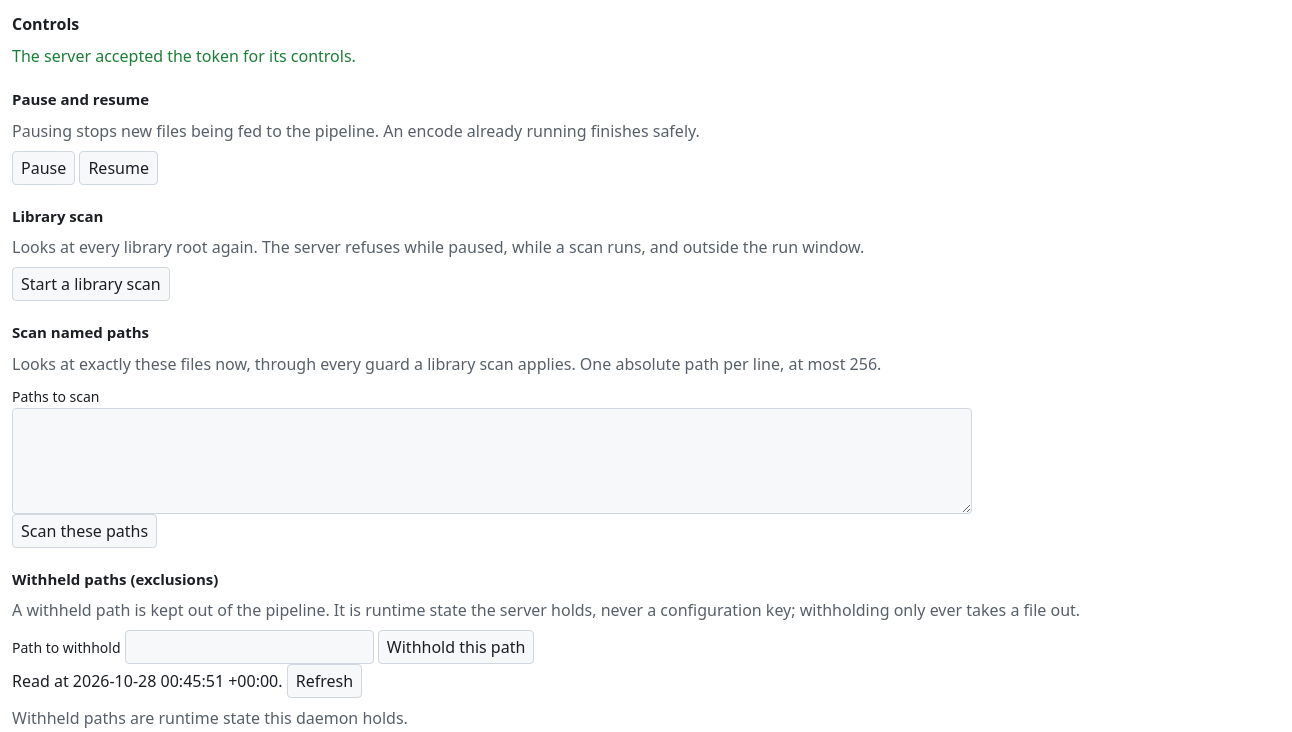
Test case: controls › controls: resume sends POST /api/resume and shows the server's answer
Expected: the text "The server accepted the token for its controls." is shown, [12, 45, 356, 67]
Step 1. Click the button "Resume" → (119, 168), box [79, 150, 158, 184]
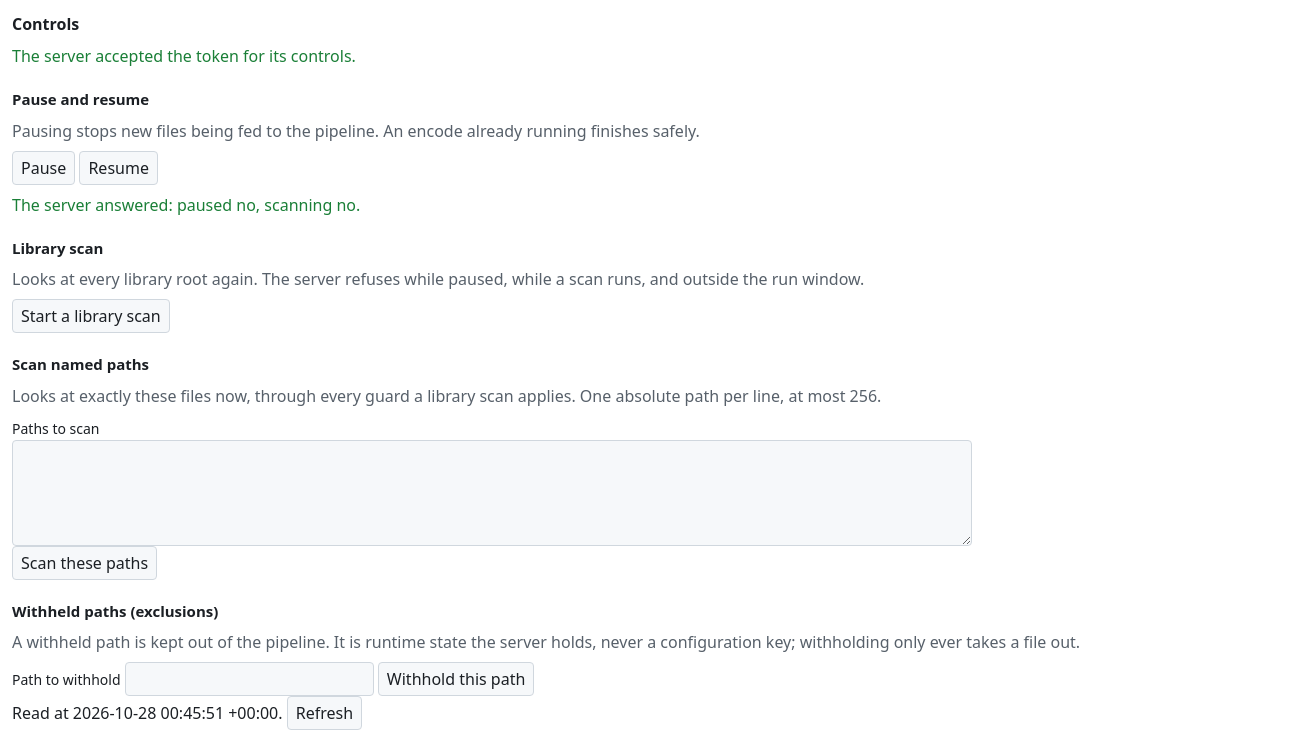
Now the text "The server answered: paused no, scanning no." is shown, box [12, 194, 360, 216]
